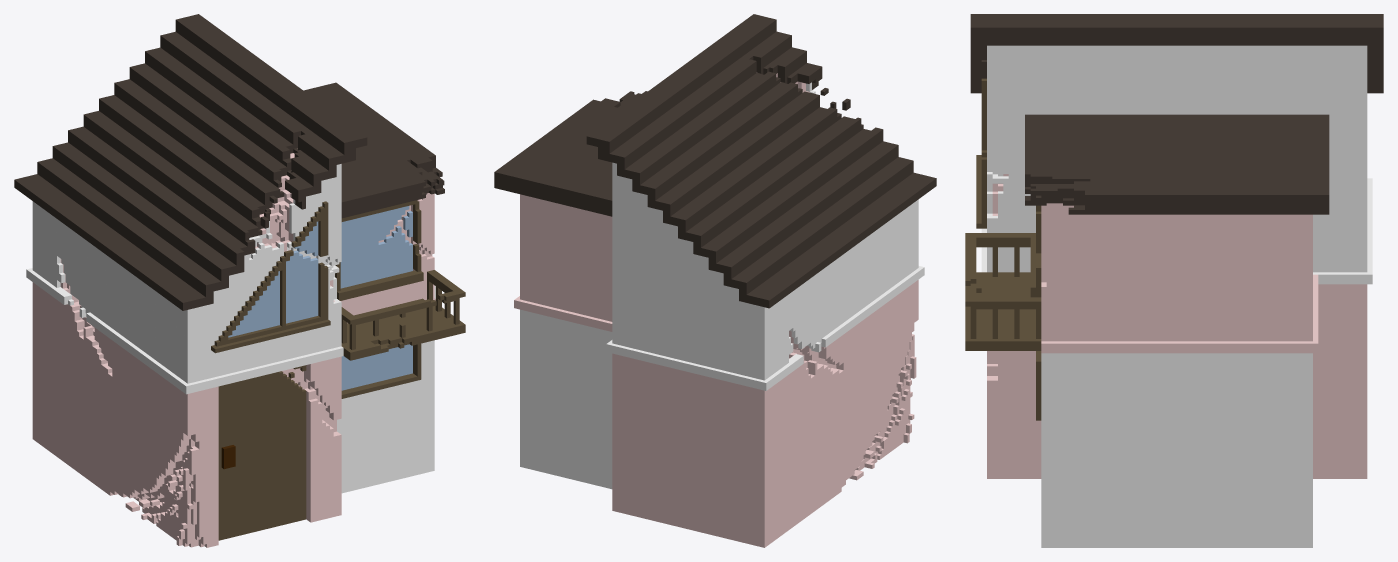
The model's file is Background_A_house_04.FBX.
The picture shows the model from 3 angles, left to right: view 1: azimuth 30°, elevation 25°; view 2: azimuth 150°, elevation 25°; view 3: azimuth 270°, elevation 25°; orthographic projection. The views are drawn at different scales.
Parts seen in each view (by area): view 1: Load_A-29; view 2: Load_A-29; view 3: Load_A-29.
Boxes of the visible parts, <box> form: Load_A-29: <box>14,14,465,547</box>; Load_A-29: <box>494,14,936,547</box>; Load_A-29: <box>965,14,1383,547</box>.
Bounding box in the file's own units: 7.8 × 9.4 × 7.7.
Materials: 1 (1 with a texture image).
